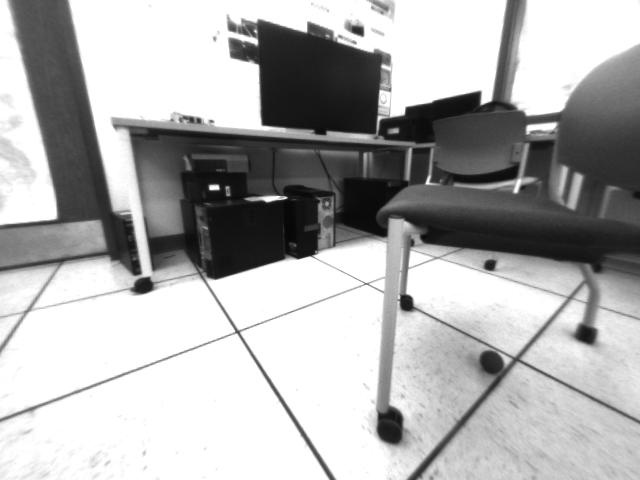dogtoy: (475, 342, 507, 380)
